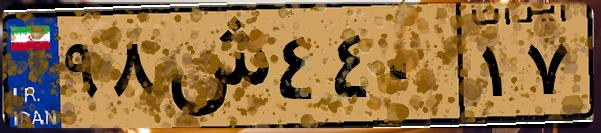0: (385, 28, 445, 110)
1: (475, 38, 525, 113)
4: (270, 28, 330, 110), (330, 28, 385, 110)
7: (525, 38, 570, 115)
8: (110, 28, 158, 98)
9: (57, 26, 110, 100)
ش: (158, 12, 270, 120)
